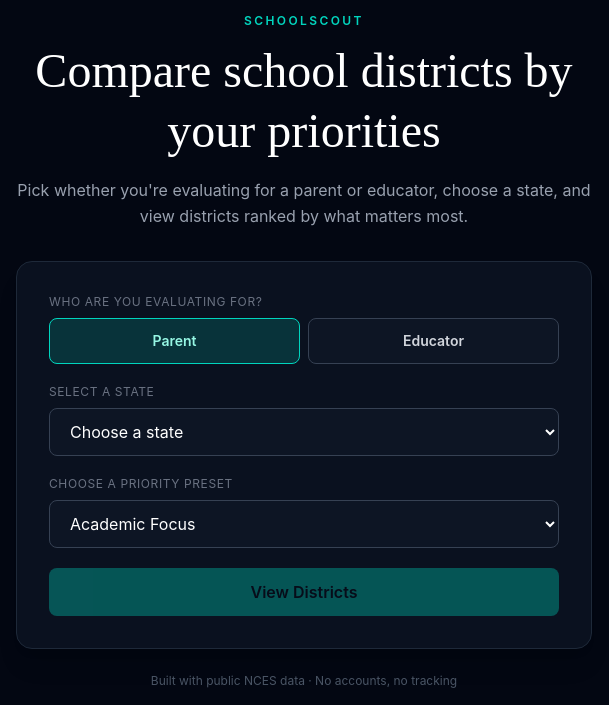
it: HomePage › changes preset when audience changes
What coordinates should you click on to do the following:
click the button "Educator"
I would click on:
 (434, 341)
Its box is x1=308 y1=318 x2=559 y2=364.
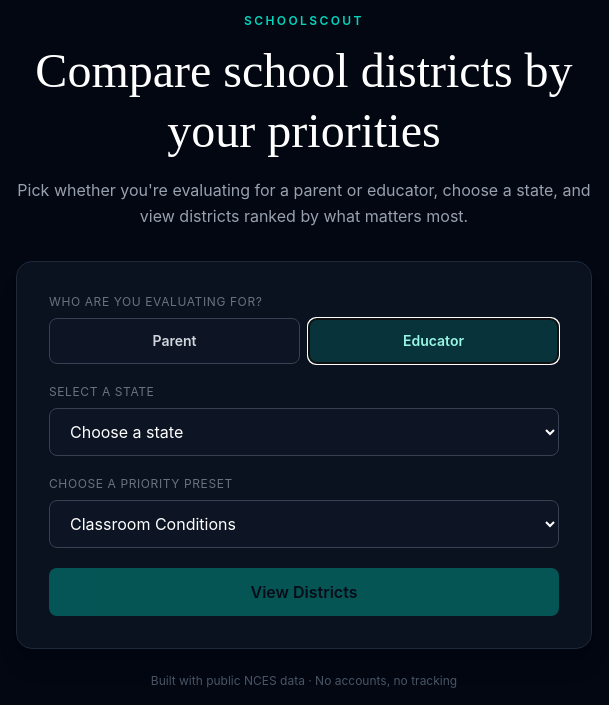
Result: the dropdown labelled "Choose a priority preset" shows "Classroom Conditions" at x1=49 y1=500 x2=559 y2=548
